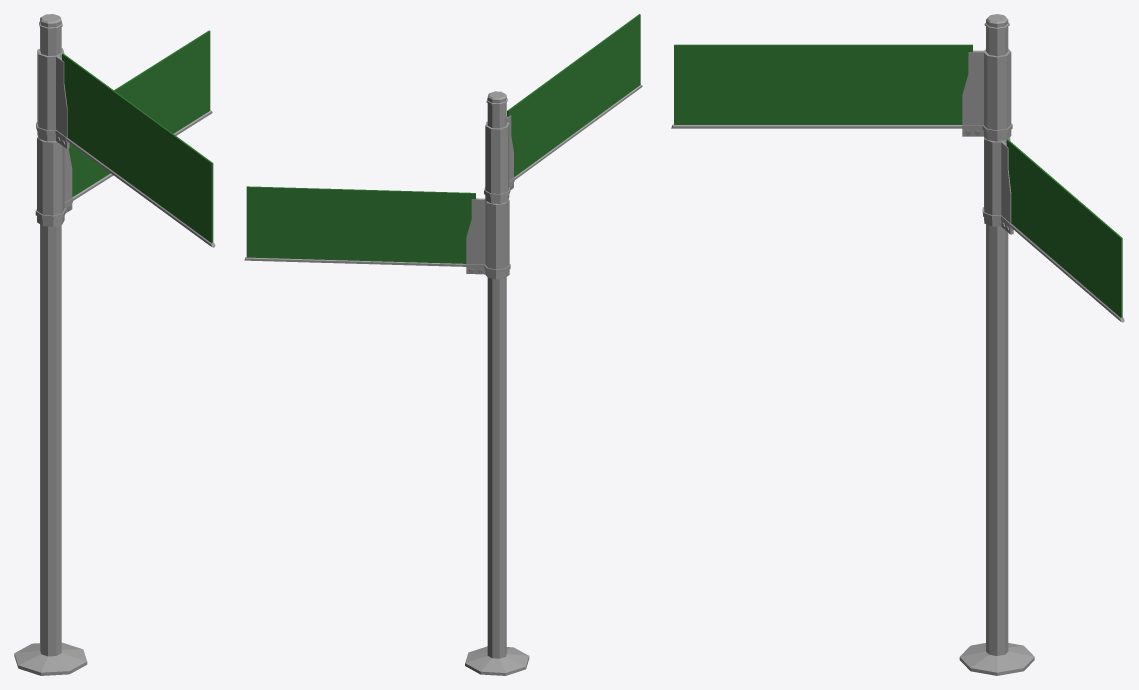
The model's file is Road Sign Double.glb.
3 renders of one model, left to right at view 1: azimuth 30°, elevation 25°; view 2: azimuth 150°, elevation 25°; view 3: azimuth 270°, elevation 25°, orthographic. The views are drawn at different scales.
Visible parts, largest first — view 1: Sign2_Cylinder.001, Pole_Cylinder, Sign1_Cylinder.003; view 2: Sign1_Cylinder.003, Sign2_Cylinder.001, Pole_Cylinder; view 3: Sign2_Cylinder.001, Pole_Cylinder, Sign1_Cylinder.003.
Part boxes in pixels (<box>): Sign2_Cylinder.001: <box>36,48,215,247</box>; Pole_Cylinder: <box>14,14,87,675</box>; Sign1_Cylinder.003: <box>35,30,212,226</box>; Sign1_Cylinder.003: <box>244,186,510,279</box>; Sign2_Cylinder.001: <box>484,14,642,203</box>; Pole_Cylinder: <box>465,91,529,675</box>; Sign2_Cylinder.001: <box>671,44,1012,141</box>; Pole_Cylinder: <box>959,14,1034,675</box>; Sign1_Cylinder.003: <box>982,137,1124,322</box>.
Size of the model in its own units: 1.31 by 3.15 by 2.01.
